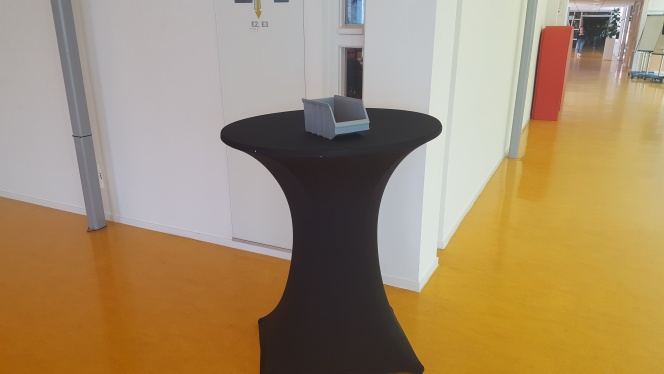tray_left: (300, 98, 335, 143)
